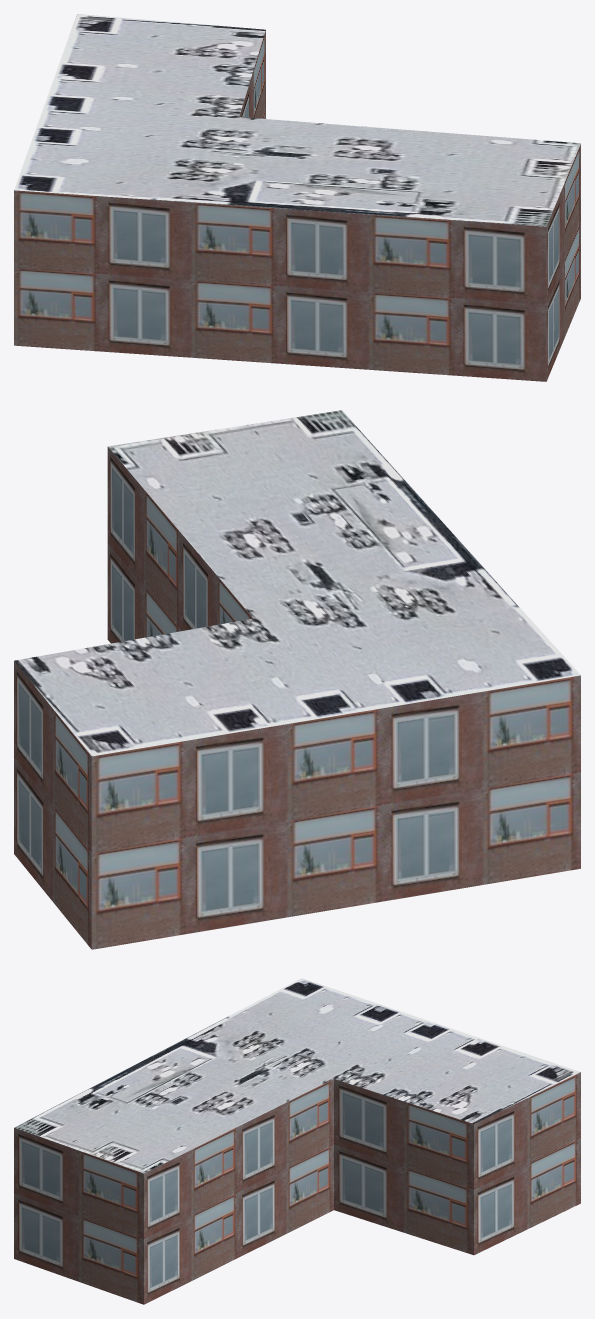
The model's file is ResTex__920.fbx.
3 views of the same model, one above another, from view 1: azimuth 30°, elevation 25°; view 2: azimuth 150°, elevation 25°; view 3: azimuth 270°, elevation 25° (orthographic). The views are drawn at different scales.
Parts seen in each view (by area): view 1: CityEngineMaterial_19_m, CityEngineMaterial_15_m; view 2: CityEngineMaterial_19_m, CityEngineMaterial_15_m; view 3: CityEngineMaterial_19_m, CityEngineMaterial_15_m.
Boxes of the visible parts, <box> form: CityEngineMaterial_19_m: <box>14,30,580,381</box>; CityEngineMaterial_15_m: <box>14,14,580,226</box>; CityEngineMaterial_19_m: <box>14,447,580,949</box>; CityEngineMaterial_15_m: <box>14,410,580,756</box>; CityEngineMaterial_19_m: <box>14,1072,580,1304</box>; CityEngineMaterial_15_m: <box>14,978,580,1173</box>.
Bounding box in the file's own units: 19.15 × 6 × 23.48.
Materials: 2 (2 with a texture image).
